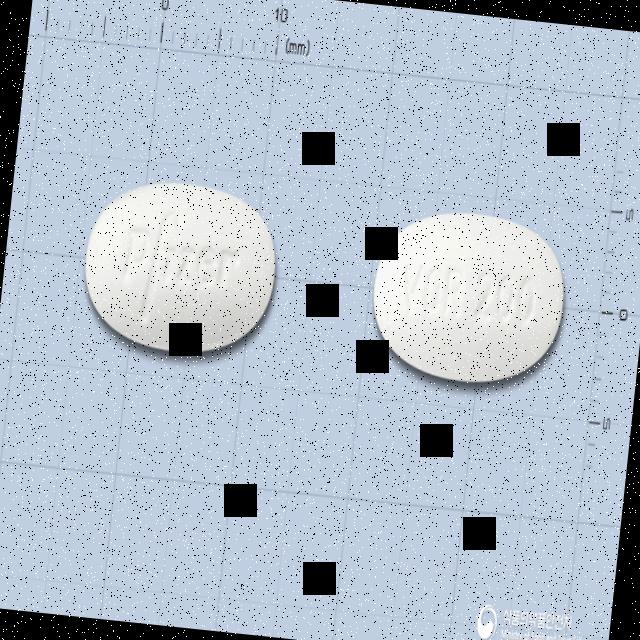Vfend Tab: (76, 174, 283, 361), (364, 204, 572, 390)
